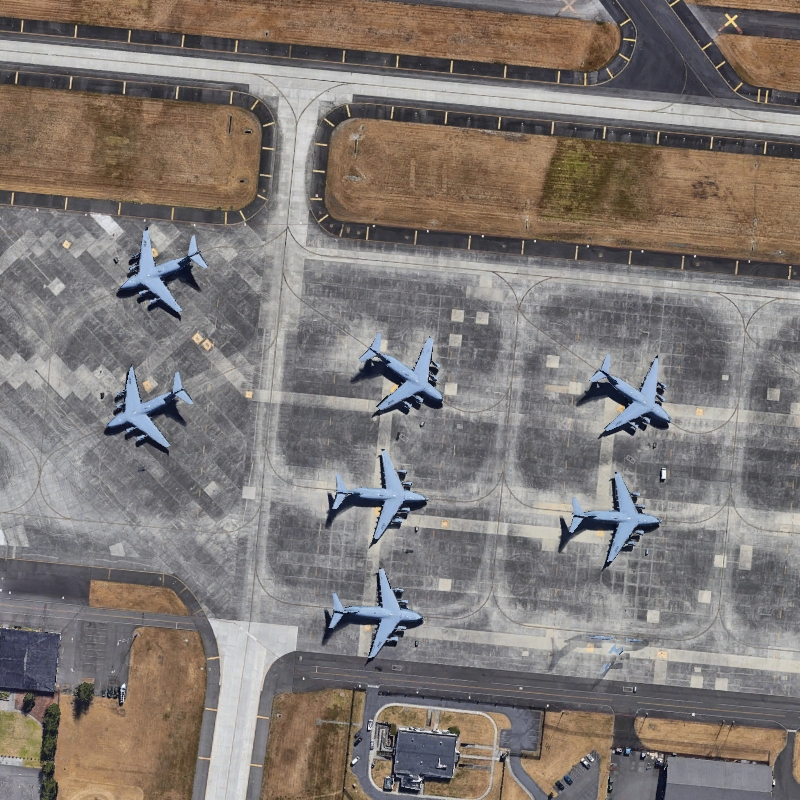A3: (110, 217, 214, 323), (557, 469, 666, 567), (328, 444, 431, 545), (320, 566, 426, 663), (102, 359, 203, 452), (579, 349, 679, 440), (353, 330, 448, 419)
